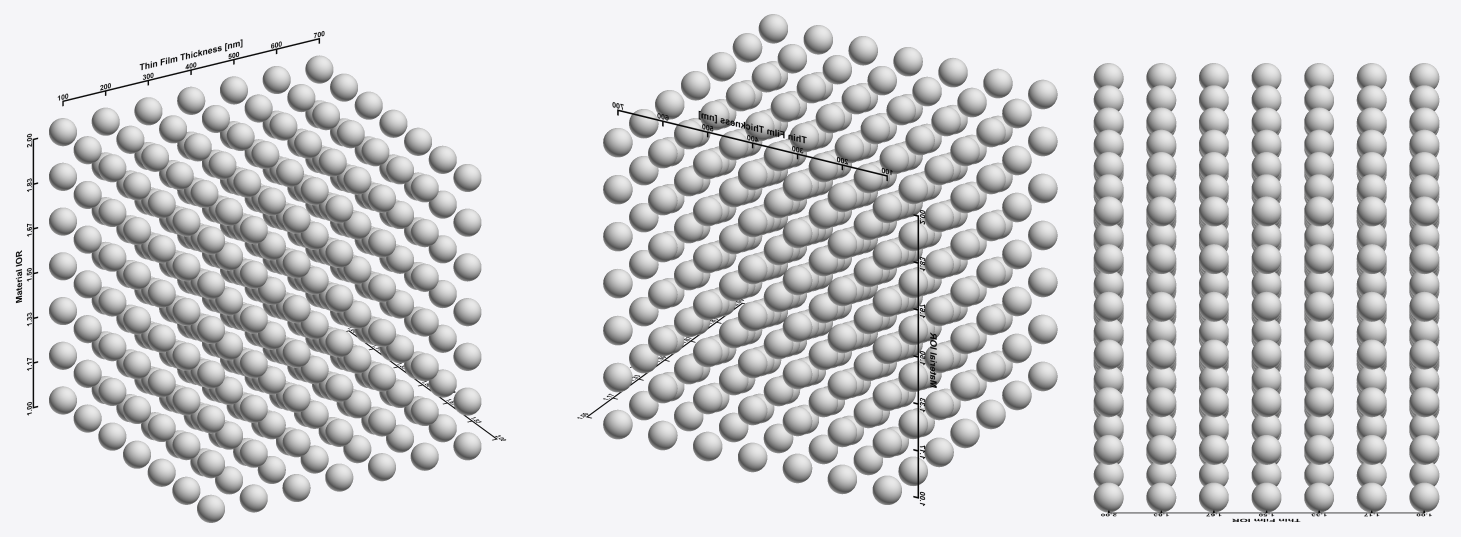
Rendered from IridescenceDielectricSpheres.glb.
3 renders of one model, left to right at view 1: azimuth 30°, elevation 25°; view 2: azimuth 150°, elevation 25°; view 3: azimuth 270°, elevation 25°, orthographic. The views are drawn at different scales.
Parts seen in each view (by area): view 1: ThicknessPlane, IorPlane, Sphere143, Sphere328, Sphere23, Sphere111, Sphere118, Sphere146, Sphere239, Sphere307, Sphere47, Sphere291 (+153 smaller); view 2: ThicknessPlane, IorPlane, Sphere112, Sphere119, Sphere126, Sphere133, Sphere105, Sphere98, Sphere140, Sphere18, Sphere25, Sphere32 (+153 smaller); view 3: ThinFilmIorPlane, Sphere318, Sphere339, Sphere297, Sphere315, Sphere321, Sphere316, Sphere320, Sphere336, Sphere337, Sphere341, Sphere342 (+122 smaller).
Boxes of the visible parts, bbox=[...] form: ThicknessPlane: bbox=[57, 31, 324, 106]; IorPlane: bbox=[15, 133, 38, 415]; Sphere143: bbox=[208, 151, 236, 179]; Sphere328: bbox=[453, 253, 481, 281]; Sphere23: bbox=[98, 288, 126, 316]; Sphere111: bbox=[282, 429, 310, 457]; Sphere118: bbox=[282, 384, 310, 412]; Sphere146: bbox=[282, 205, 310, 233]; Sphere239: bbox=[244, 94, 272, 122]; Sphere307: bbox=[453, 387, 481, 415]; Sphere47: bbox=[172, 208, 200, 236]; Sphere291: bbox=[361, 138, 389, 166]; ThicknessPlane: bbox=[612, 102, 892, 181]; IorPlane: bbox=[913, 210, 936, 505]; Sphere112: bbox=[782, 359, 812, 389]; Sphere119: bbox=[782, 312, 812, 342]; Sphere126: bbox=[782, 265, 812, 295]; Sphere133: bbox=[782, 218, 812, 248]; Sphere105: bbox=[782, 406, 812, 436]; Sphere98: bbox=[782, 453, 812, 483]; Sphere140: bbox=[782, 171, 812, 201]; Sphere18: bbox=[976, 305, 1005, 335]; Sphere25: bbox=[976, 258, 1005, 288]; Sphere32: bbox=[976, 211, 1005, 241]; ThinFilmIorPlane: bbox=[1101, 510, 1431, 521]; Sphere318: bbox=[1251, 339, 1281, 369]; Sphere339: bbox=[1251, 196, 1281, 226]; Sphere297: bbox=[1251, 482, 1281, 512]; Sphere315: bbox=[1409, 339, 1439, 369]; Sphere321: bbox=[1093, 339, 1123, 369]; Sphere316: bbox=[1356, 339, 1386, 369]; Sphere320: bbox=[1146, 339, 1176, 369]; Sphere336: bbox=[1409, 196, 1439, 226]; Sphere337: bbox=[1356, 196, 1386, 226]; Sphere341: bbox=[1146, 196, 1176, 226]; Sphere342: bbox=[1093, 196, 1123, 226].
Size of the model in its own units: 29 by 26.5 by 24.
344 materials, 1 textured.
